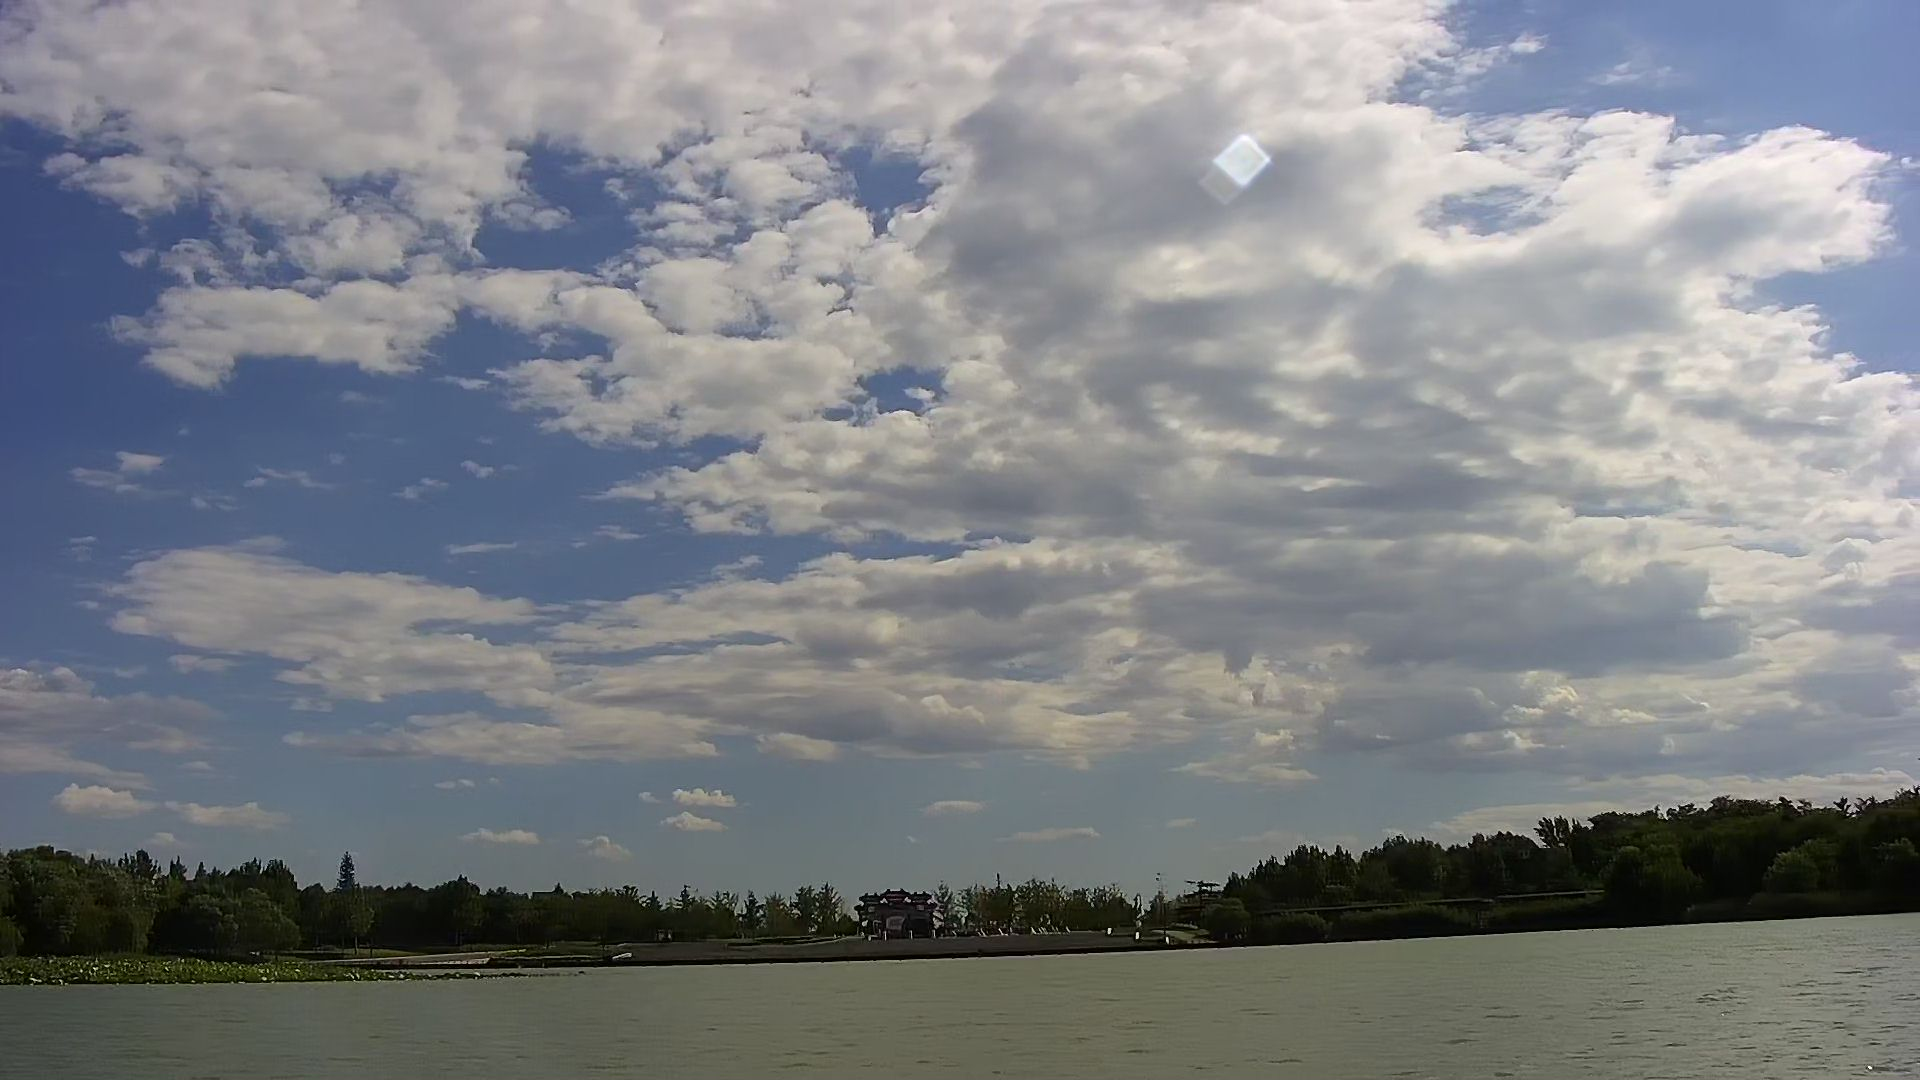harbor: (678, 926, 1250, 960)
